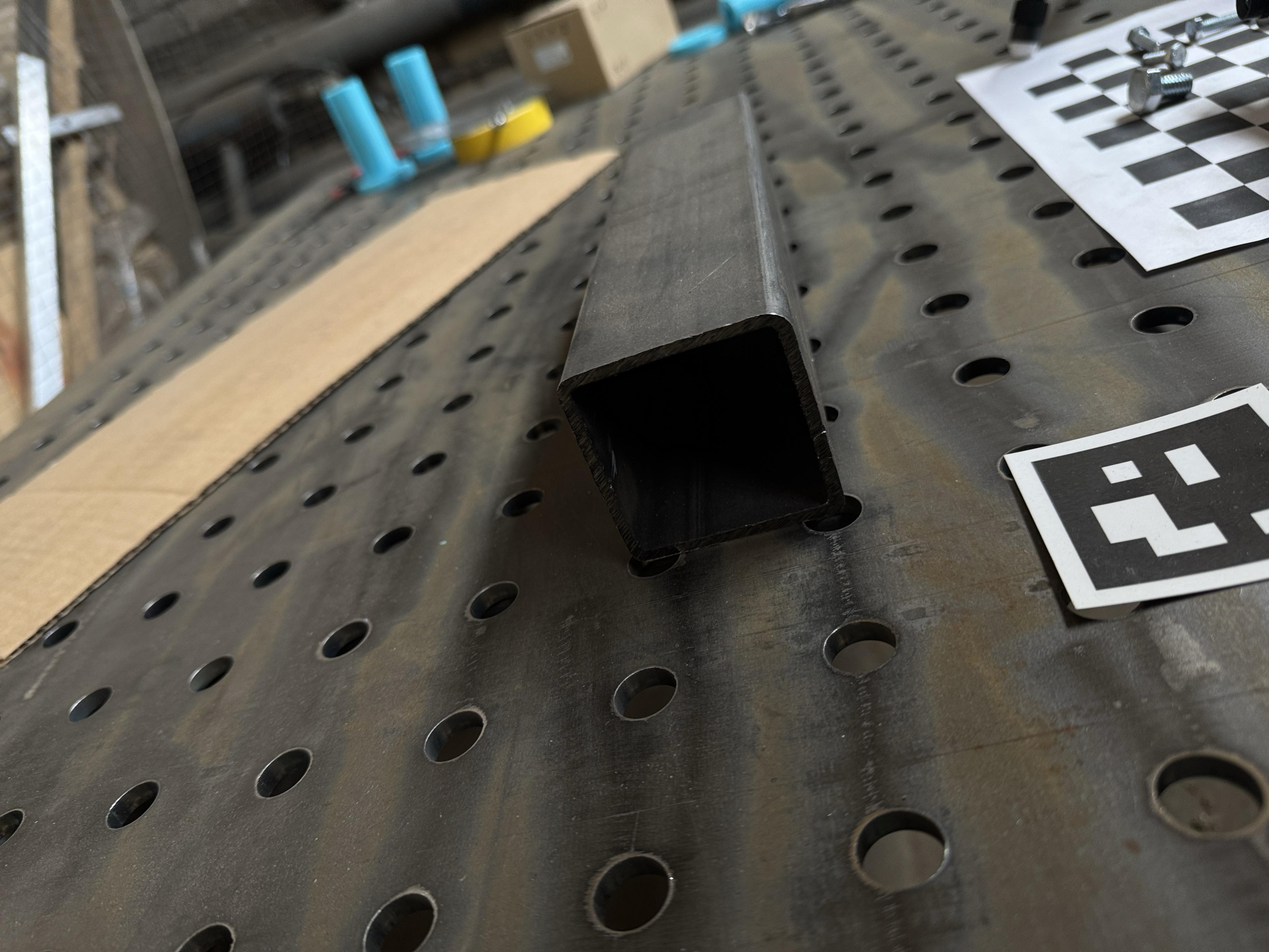detail: (557, 92, 845, 562)
